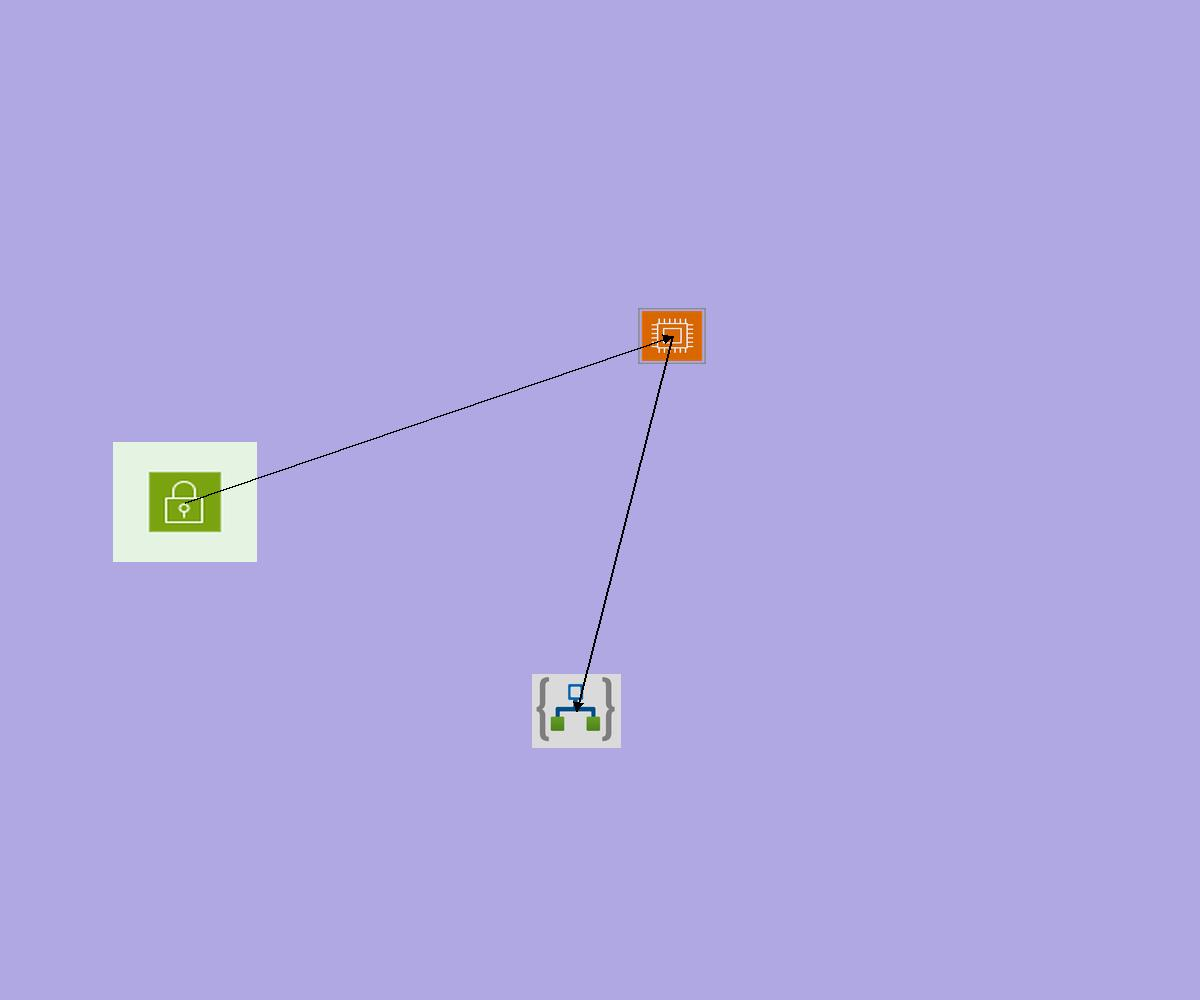AWS-Category_Compute: (638, 308, 706, 364)
AWS-Public-subnet: (113, 442, 257, 562)
Azure_integration-204-Logic-Apps: (532, 674, 621, 748)
